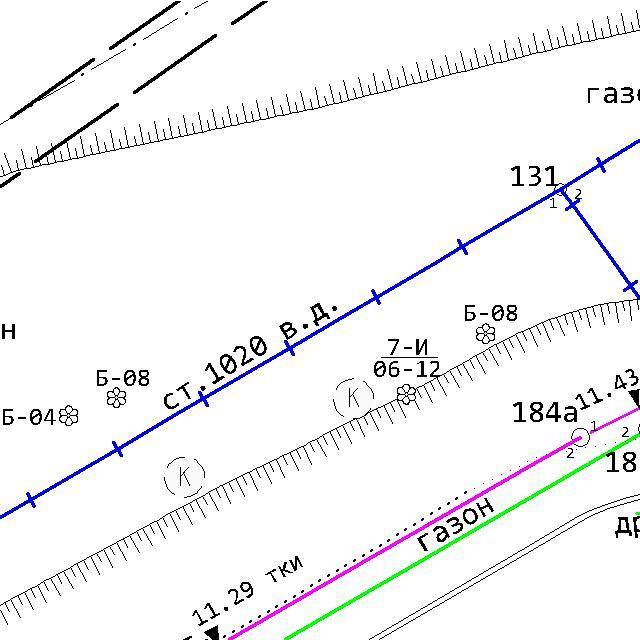bushes: (331, 376, 375, 421), (163, 455, 206, 499), (58, 402, 80, 428), (105, 386, 128, 410), (474, 322, 497, 346), (396, 382, 417, 406)
mark: (203, 622, 220, 640)
well: (570, 425, 592, 450), (551, 180, 569, 198)
